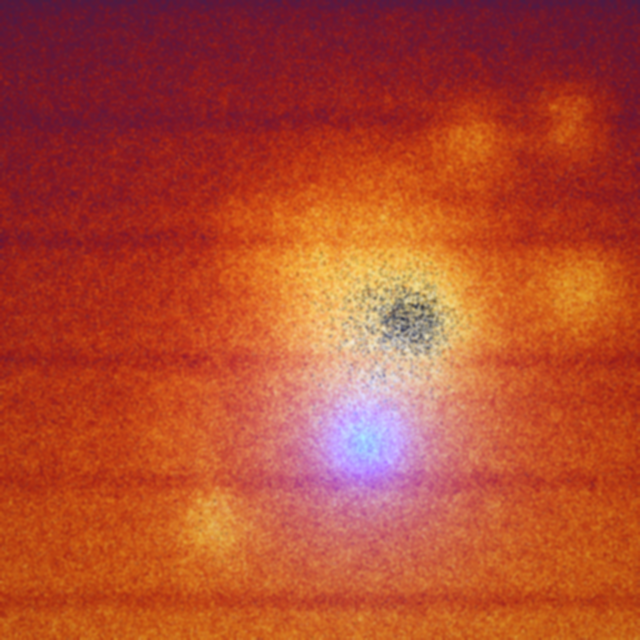nozzle: (317, 404, 407, 491)
